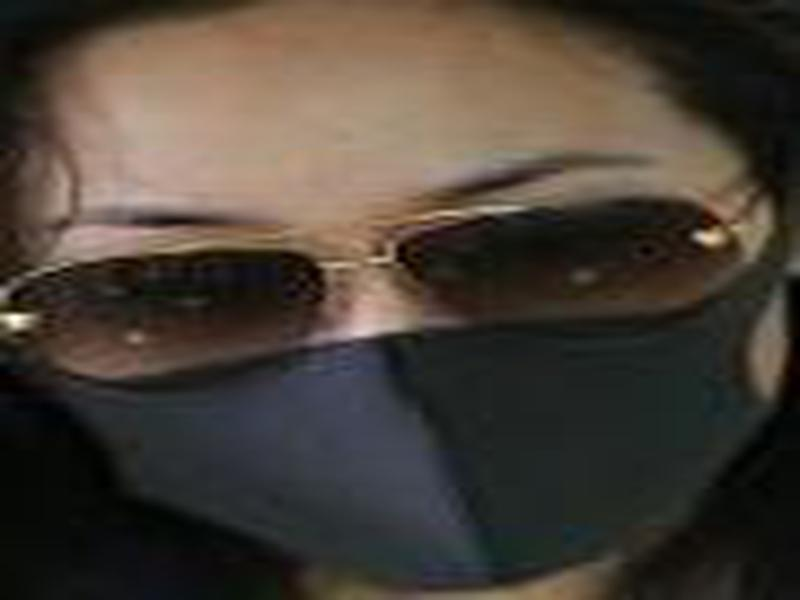with_mask: (1, 5, 785, 600)
